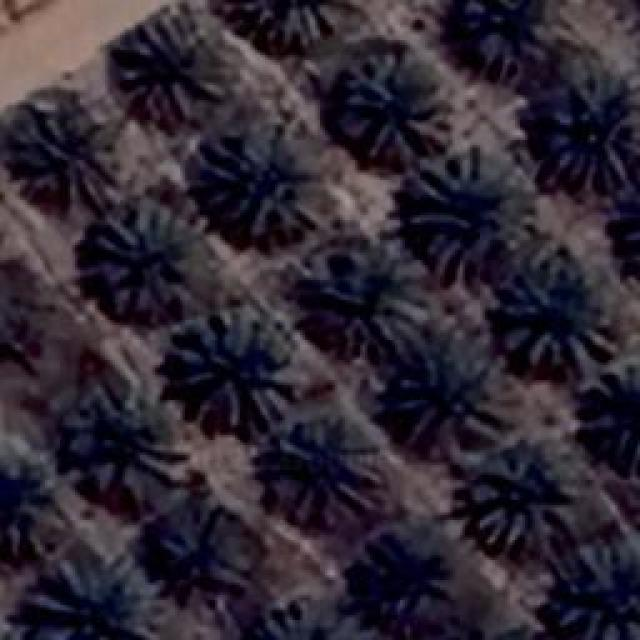PalmTree: (51, 95, 614, 415), (103, 38, 508, 95), (170, 300, 300, 432), (392, 335, 526, 455), (65, 385, 190, 500), (200, 130, 325, 242), (314, 235, 428, 355), (402, 147, 508, 275), (338, 50, 452, 165), (105, 19, 230, 122), (270, 414, 382, 528), (92, 200, 200, 318), (462, 440, 576, 550), (25, 547, 165, 635), (355, 528, 473, 628), (498, 268, 612, 370), (547, 65, 635, 190), (12, 108, 120, 202), (146, 496, 236, 596), (550, 540, 638, 638), (0, 272, 55, 378), (0, 461, 55, 554), (242, 0, 348, 48), (243, 604, 360, 640), (615, 174, 640, 288), (622, 170, 640, 290)
